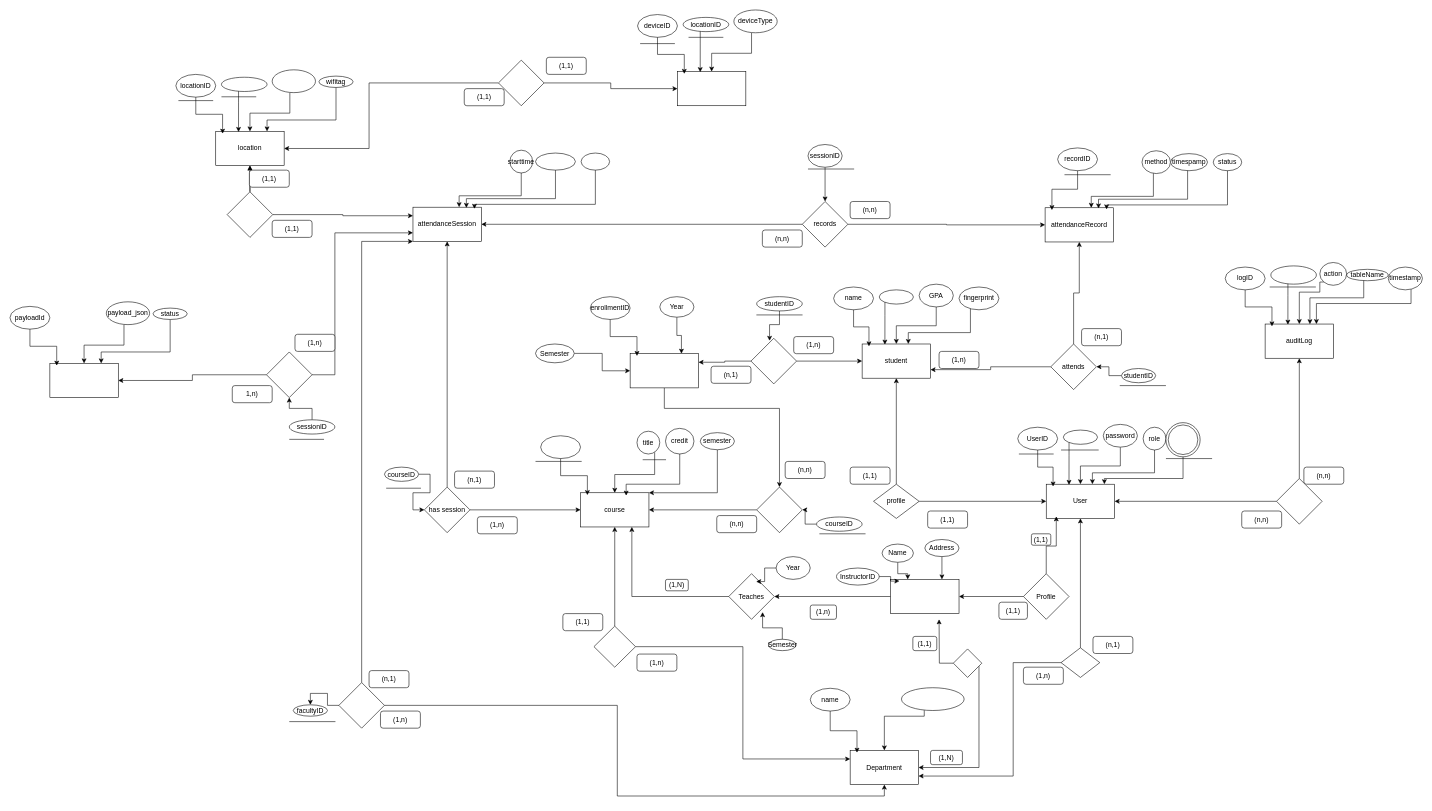
Some shapes in this 1432 by 811 pixel diagram are drawn without their labels. Each missing label, with the centre of its shape:
"actorID" belongs at (x=1293, y=274).
"biometricDevice" belongs at (x=711, y=88).
"coursecode" belongs at (x=560, y=447).
"email" belongs at (x=1080, y=436).
"employmet status" belongs at (x=932, y=699).
"endTime" belongs at (x=555, y=161).
"enrollment" belongs at (x=664, y=370).
"enrolls" belongs at (x=773, y=361).
"fmsSyncQueue" belongs at (x=83, y=380).
"geofence" belongs at (x=293, y=81).
"hallName" belongs at (x=244, y=84).
"has device" belongs at (x=521, y=83).
"held in" belongs at (x=250, y=214).
"identifes" belongs at (x=1080, y=662).
"instructor" belongs at (x=924, y=596).
"logs" belongs at (x=1299, y=501).
"major" belongs at (x=896, y=296).
"Offers" belongs at (x=614, y=646).
"opens" belongs at (x=361, y=705).
"phone" belongs at (x=1182, y=439).
"qrtoken" belongs at (x=595, y=161).
"registered" belongs at (x=779, y=509).
"syncs" belongs at (x=289, y=374).
"Works" belongs at (x=967, y=662).
